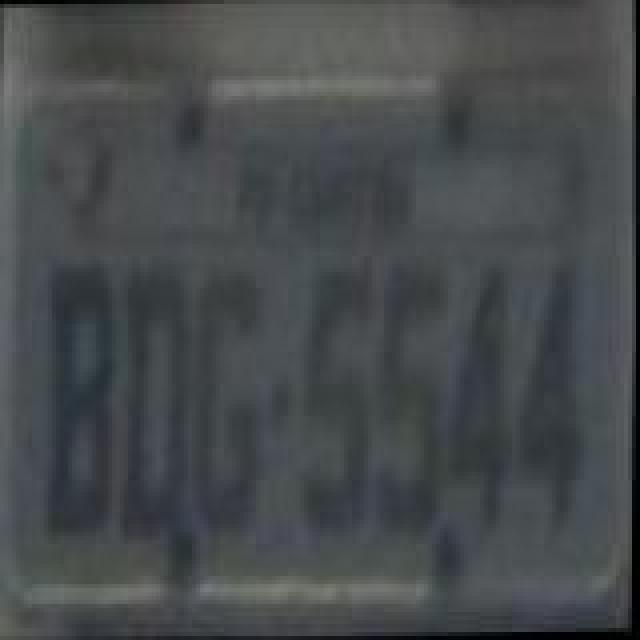4: (512, 260, 596, 532), (442, 262, 522, 538)
5: (292, 260, 384, 544), (370, 254, 458, 546)
B: (40, 264, 132, 552)
D: (116, 266, 200, 546)
G: (188, 262, 272, 538)
